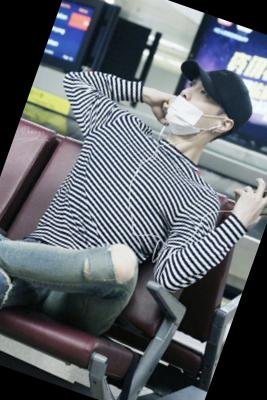mask_weared_incorrect: (162, 75, 228, 143)
